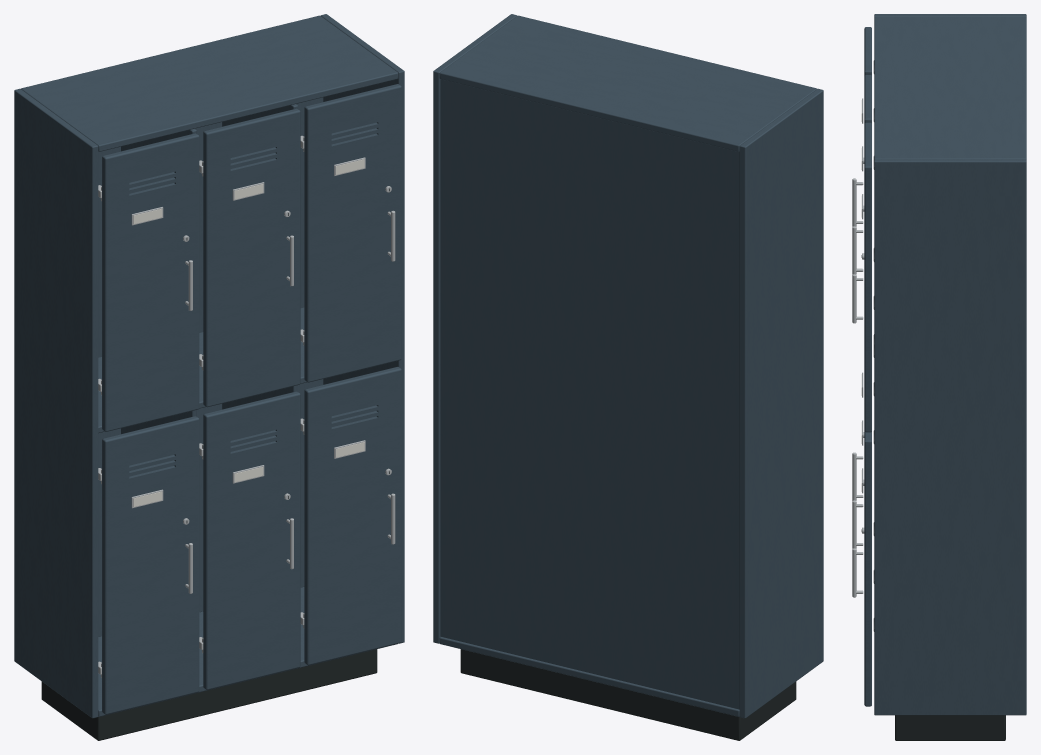
Rendered from locker_bank.fbx.
The picture shows the model from 3 angles, left to right: view 1: azimuth 30°, elevation 25°; view 2: azimuth 150°, elevation 25°; view 3: azimuth 270°, elevation 25°; orthographic projection. The views are drawn at different scales.
Parts seen in each view (by area): view 1: Case | side, Locker 2-1 | folded door, Locker 0-1 | folded door, Locker 1-0 | folded door, Locker 1-1 | folded door, Locker 2-0 | folded door, Locker 0-0 | folded door, Case | horizontal panel.001, Recessed structural plinth, Case | inset back, Case | side.001, Case | horizontal panel (+3 smaller); view 2: Case | inset back, Case | side, Case | horizontal panel.001, Recessed structural plinth, Case | side.001, Case | horizontal panel; view 3: Case | side.001, Case | horizontal panel.001, Recessed structural plinth, Locker 2-1 | folded door, Locker 2-0 | folded door, Case | side, Locker 0-1 | folded door, Locker 1-1 | folded door.
Part boxes in pixels (x1,y1,x2,y2): Case | side: [14, 88, 98, 718]; Locker 2-1 | folded door: [304, 84, 401, 382]; Locker 0-1 | folded door: [102, 133, 199, 431]; Locker 1-0 | folded door: [203, 391, 300, 689]; Locker 1-1 | folded door: [203, 108, 300, 407]; Locker 2-0 | folded door: [304, 366, 401, 665]; Locker 0-0 | folded door: [102, 416, 199, 714]; Case | horizontal panel.001: [21, 15, 398, 151]; Recessed structural plinth: [41, 649, 377, 740]; Case | inset back: [98, 97, 323, 636]; Case | side.001: [320, 14, 404, 643]; Case | horizontal panel: [98, 587, 397, 716]; Case | inset back: [440, 79, 739, 709]; Case | side: [739, 88, 823, 718]; Case | horizontal panel.001: [439, 15, 816, 151]; Recessed structural plinth: [460, 649, 796, 740]; Case | side.001: [433, 14, 517, 643]; Case | horizontal panel: [439, 637, 739, 716]; Case | side.001: [874, 159, 1026, 715]; Case | horizontal panel.001: [874, 17, 1026, 159]; Recessed structural plinth: [895, 715, 1005, 740]; Locker 2-1 | folded door: [864, 122, 871, 432]; Locker 2-0 | folded door: [864, 431, 871, 706]; Case | side: [874, 14, 1026, 17]; Locker 0-1 | folded door: [864, 27, 871, 76]; Locker 1-1 | folded door: [864, 75, 871, 123].
Bounding box in the file's own units: 101 × 188 × 50.45.
5 materials, 1 textured.
